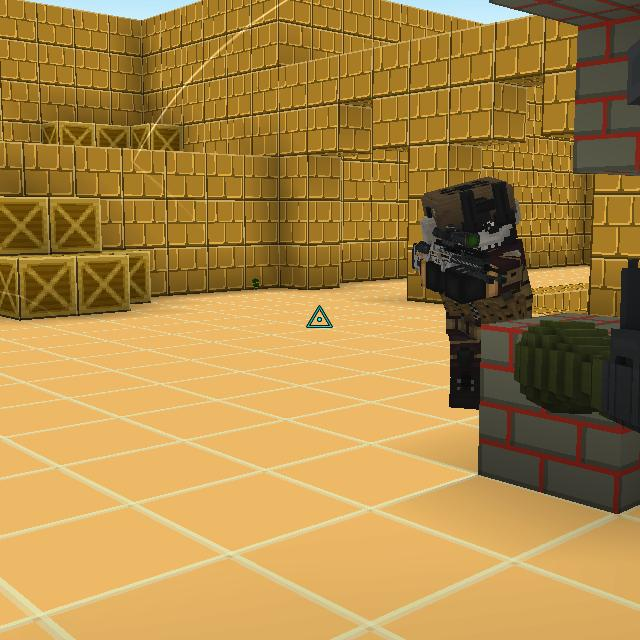enemy: (404, 174, 539, 410)
